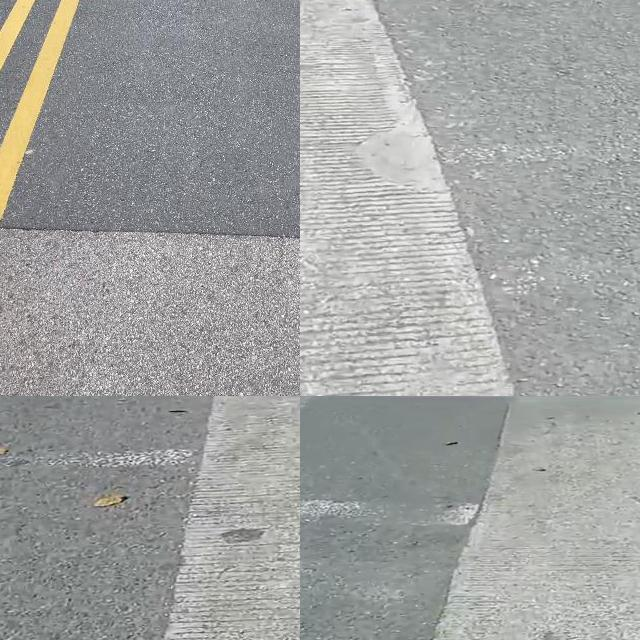Sambungan: (300, 0, 515, 396), (0, 0, 300, 235), (435, 396, 640, 640), (173, 396, 300, 640)
